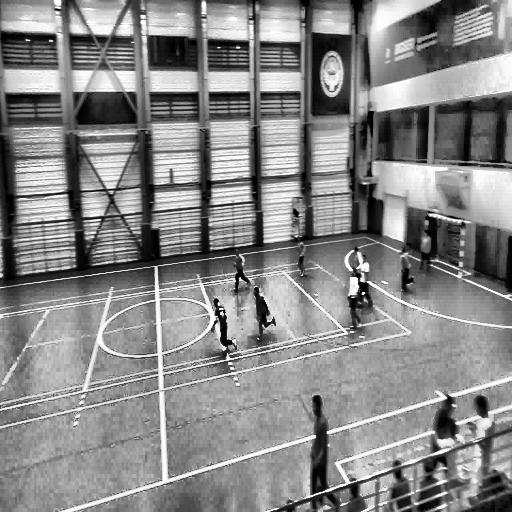ball: (220, 346, 229, 359), (269, 316, 275, 325)
player: (468, 395, 494, 497), (308, 396, 330, 500), (212, 298, 234, 354), (346, 267, 364, 333), (255, 286, 271, 343), (357, 251, 372, 310), (233, 248, 249, 292), (400, 247, 414, 293), (420, 226, 432, 270), (297, 237, 308, 278), (352, 247, 364, 276)
